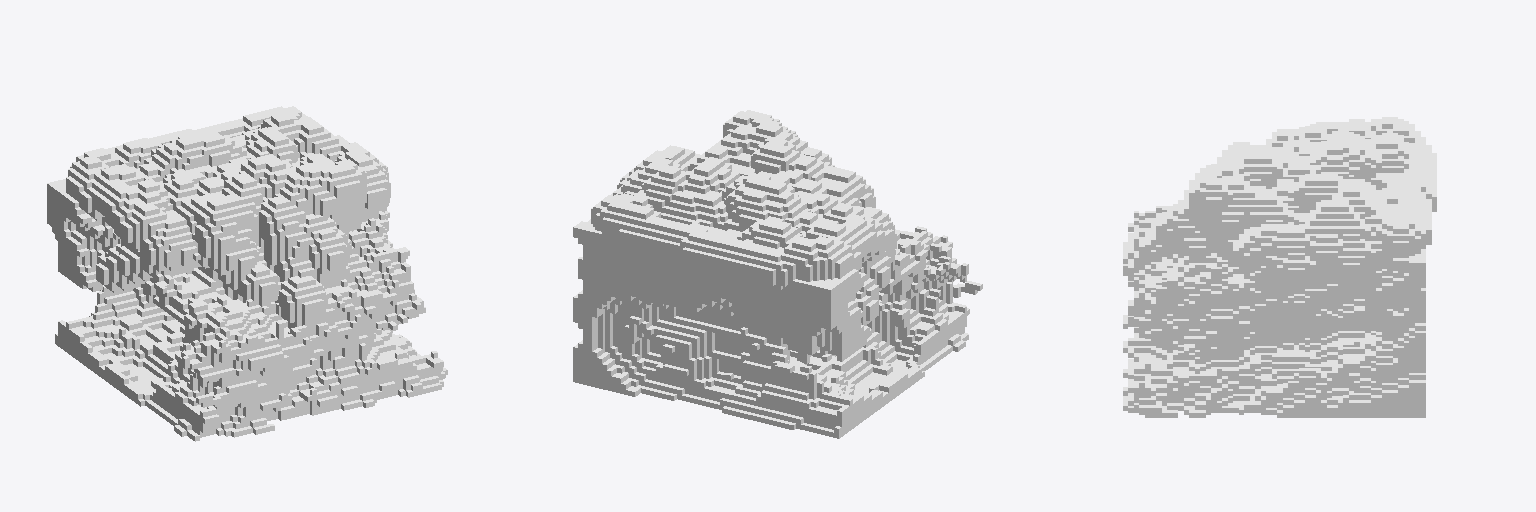
The model's file is IceStand.obj.
3 views of the same model, side by side, from view 1: azimuth 30°, elevation 25°; view 2: azimuth 150°, elevation 25°; view 3: azimuth 270°, elevation 25° (orthographic).
Visible parts, largest first — view 1: object 1; view 2: object 1; view 3: object 1.
Boxes of the visible parts, x1=… form: object 1: x1=47, y1=106, x2=447, y2=441; object 1: x1=573, y1=110, x2=982, y2=438; object 1: x1=1123, y1=117, x2=1436, y2=417.
Bounding box in the file's own units: 5.7 × 4.1 × 5.7.